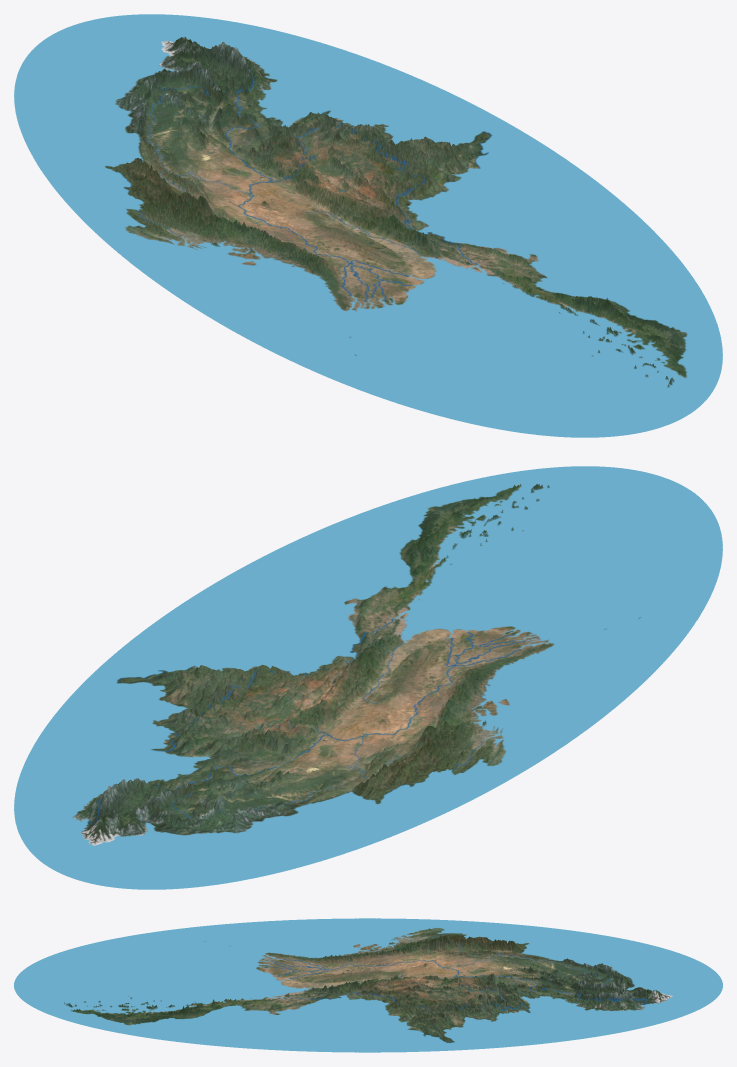
File: MMR-previa-terrain.glb
3 views of the same model, one above another, from view 1: azimuth 30°, elevation 25°; view 2: azimuth 150°, elevation 25°; view 3: azimuth 270°, elevation 25° (orthographic). The views are drawn at different scales.
Visible parts, largest first — view 1: Myanmar; view 2: Myanmar; view 3: Myanmar.
Part boxes in pixels (x1,y1,x2,y2): Myanmar: (14, 14, 722, 437); Myanmar: (14, 466, 722, 889); Myanmar: (14, 918, 722, 1052).
Bounding box in the file's own units: 0.9149 × 0.0417 × 2.04.
1 material, 1 textured.
